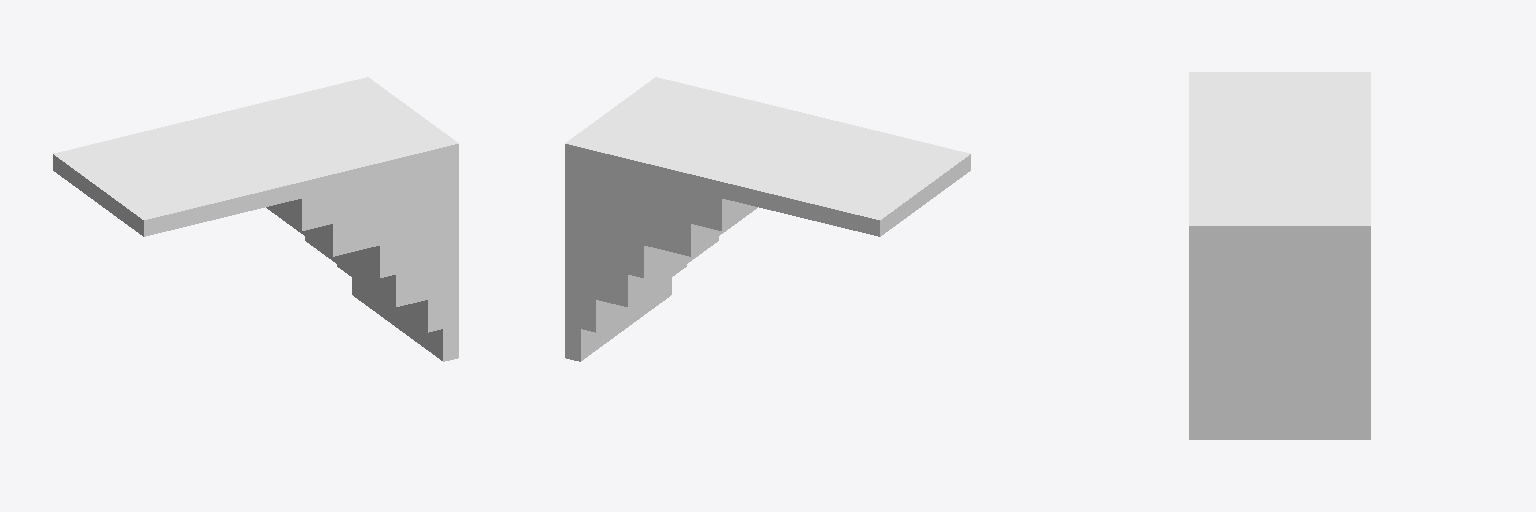
Rendered from MushroomDaddyInterior_01-8.obj.
The picture shows the model from 3 angles: view 1: azimuth 30°, elevation 25°; view 2: azimuth 150°, elevation 25°; view 3: azimuth 270°, elevation 25°; orthographic projection.
Parts seen in each view (by area): view 1: MushroomDaddyInterior_01-8; view 2: MushroomDaddyInterior_01-8; view 3: MushroomDaddyInterior_01-8.
Part boxes in pixels (bbox=[...]): MushroomDaddyInterior_01-8: bbox=[53, 77, 458, 361]; MushroomDaddyInterior_01-8: bbox=[565, 77, 970, 361]; MushroomDaddyInterior_01-8: bbox=[1189, 72, 1370, 439].
Bounding box in the file's own units: 40 × 26 × 20.